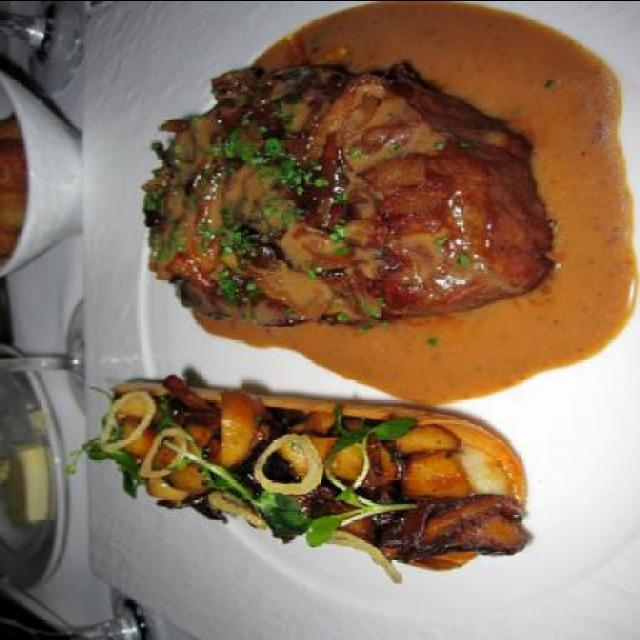Steak: (138, 34, 542, 342)
